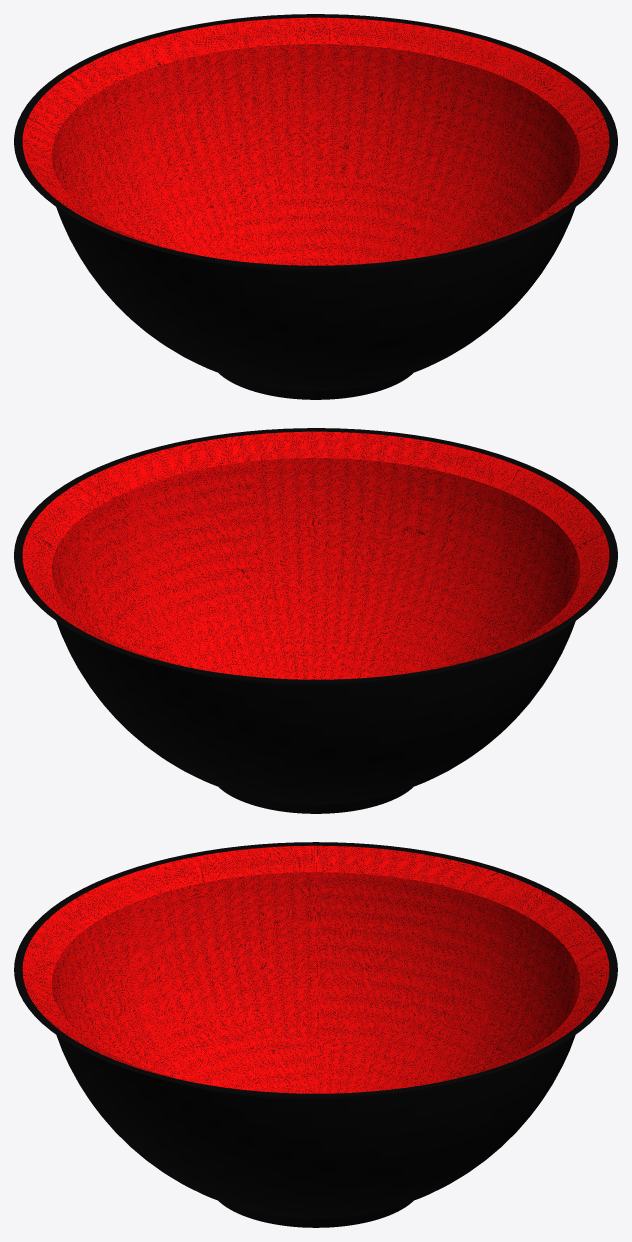
The model's file is bowl_02_origin_gt.dae.
The picture shows the model from 3 angles, top to bottom: view 1: azimuth 30°, elevation 25°; view 2: azimuth 150°, elevation 25°; view 3: azimuth 270°, elevation 25°; orthographic projection.
Parts seen in each view (by area): view 1: group_0 (×3); view 2: group_0 (×3); view 3: group_0 (×3).
Boxes of the visible parts, x1,y1,x2,y2 form: group_0 (×3): (14,14,617,399); group_0 (×3): (14,428,617,813); group_0 (×3): (14,842,617,1227).
Bounding box in the file's own units: 5.8 × 5.8 × 2.32.
